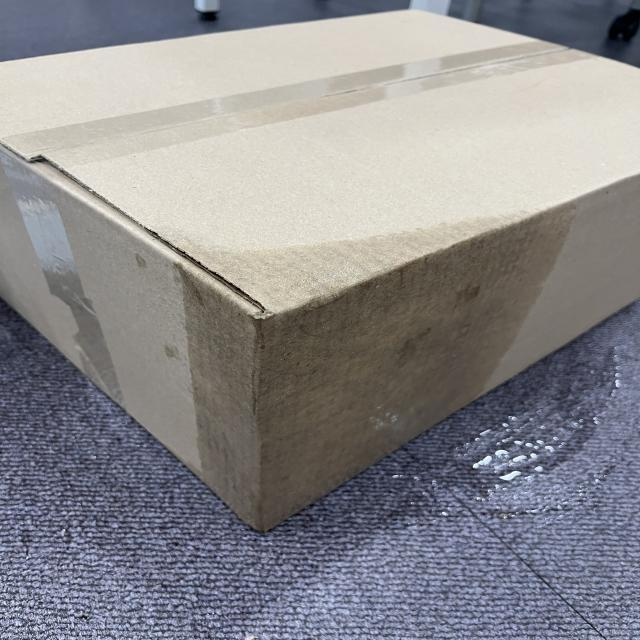wet: (174, 193, 536, 531)
